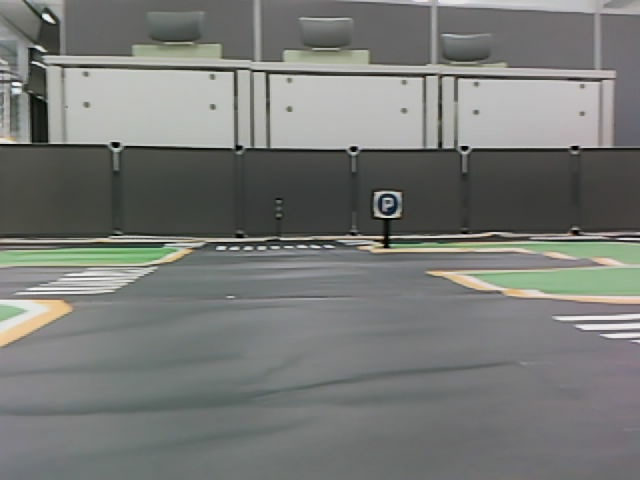crosswalk: (214, 244, 336, 250)
park: (376, 192, 399, 217)
